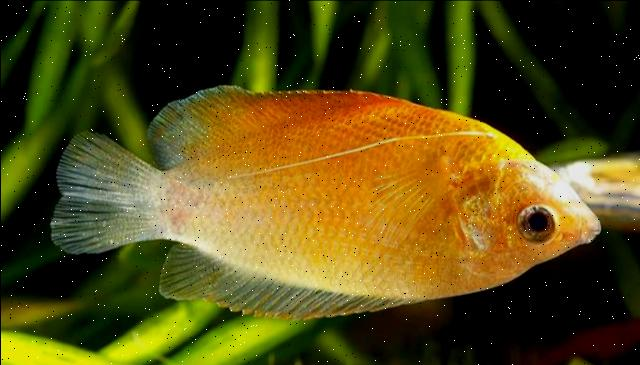Mulut: (562, 192, 616, 264)
Sirip Anal: (134, 79, 388, 169), (345, 150, 439, 254)
Sirip Ekor: (41, 121, 153, 259)
Sirip Perut: (205, 112, 491, 186)
Sirip Punggung: (154, 232, 408, 328)
